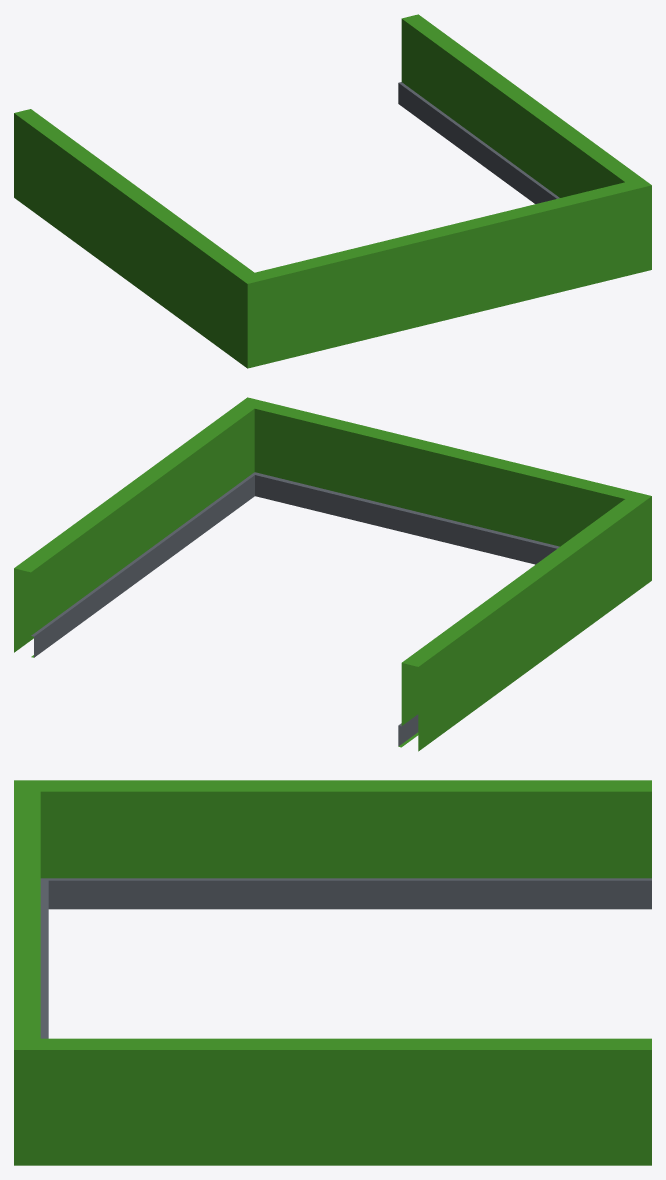
Rendered from Room_3.fbx.
3 renders of one model, top to bottom at view 1: azimuth 30°, elevation 25°; view 2: azimuth 150°, elevation 25°; view 3: azimuth 270°, elevation 25°, orthographic. The views are drawn at different scales.
Parts seen in each view (by area): view 1: Room_3; view 2: Room_3; view 3: Room_3.
Boxes of the visible parts, x1,y1,x2,y2 form: Room_3: (14,14,651,368); Room_3: (14,397,651,751); Room_3: (14,780,651,1165).
Bounding box in the file's own units: 2000 × 400 × 2000.
